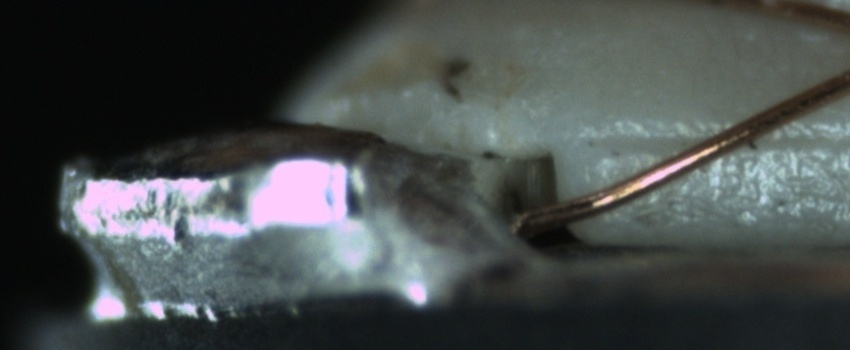DL: (605, 108, 847, 172)
